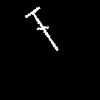double_crochet: (26, 7, 57, 50)
